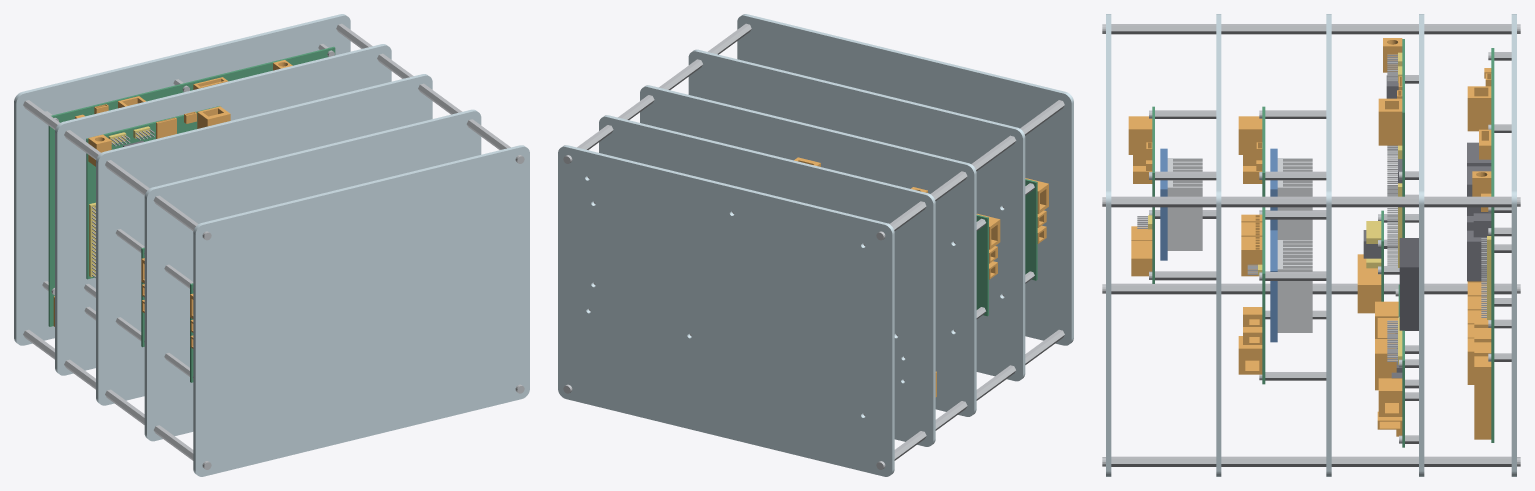
The model's file is stack.glb.
3 views of the same model, side by side, from view 1: azimuth 30°, elevation 25°; view 2: azimuth 150°, elevation 25°; view 3: azimuth 270°, elevation 25° (orthographic). The views are drawn at different scales.
Visible parts, largest first — view 1: L4|plate|170_205_222, L3|plate|170_205_222, L2|plate|170_205_222, L1|plate|170_205_222, L0|plate|170_205_222, L0|LAN9692|30_105_60, L1|TC397|30_105_60, L1|TC397|235_125_35, L3|column|150_155_162, L2|column|150_155_162, L0|column|150_155_162, L1|column|150_155_162 (+2 smaller); view 2: L0|plate|170_205_222, L3|plate|170_205_222, L4|plate|170_205_222, L1|plate|170_205_222, L2|plate|170_205_222, L0|column|150_155_162, L2|column|150_155_162, L3|column|150_155_162, L3|KA7-UNO|30_105_60, L2|KA7-UNO|30_105_60, L1|column|150_155_162, L3|KA7-UNO|235_125_35 (+1 smaller); view 3: L0|LAN9692|235_125_35, L2|KA7-UNO|190_195_202, L3|column|150_155_162, L2|column|150_155_162, L2|KA7-UNO|235_125_35, L0|column|150_155_162, L1|column|150_155_162, L2|KA7-UNO|150_155_162, L0|plate|170_205_222, L1|plate|170_205_222, L2|plate|170_205_222, L3|plate|170_205_222 (+22 smaller).
Boxes of the visible parts, box(x1,y1,x2,y2) form: L4|plate|170_205_222: box(193, 145, 529, 476); L3|plate|170_205_222: box(144, 109, 481, 441); L2|plate|170_205_222: box(96, 74, 432, 405); L1|plate|170_205_222: box(55, 44, 391, 375); L0|plate|170_205_222: box(14, 14, 350, 345); L0|LAN9692|30_105_60: box(48, 46, 335, 326); L1|TC397|30_105_60: box(86, 106, 220, 279); L1|TC397|235_125_35: box(88, 106, 230, 166); L3|column|150_155_162: box(153, 119, 510, 460); L2|column|150_155_162: box(105, 83, 462, 424); L0|column|150_155_162: box(23, 23, 372, 359); L1|column|150_155_162: box(64, 53, 413, 389); L0|plate|170_205_222: box(558, 145, 894, 476); L3|plate|170_205_222: box(688, 49, 1025, 381); L4|plate|170_205_222: box(737, 14, 1073, 345); L1|plate|170_205_222: box(599, 115, 935, 446); L2|plate|170_205_222: box(640, 85, 976, 416); L0|column|150_155_162: box(563, 125, 926, 469); L2|column|150_155_162: box(659, 59, 1016, 400); L3|column|150_155_162: box(707, 23, 1064, 364); L3|KA7-UNO|30_105_60: box(1025, 179, 1037, 280); L2|KA7-UNO|30_105_60: box(976, 214, 988, 316); L1|column|150_155_162: box(618, 95, 967, 430); L3|KA7-UNO|235_125_35: box(1025, 178, 1048, 243); L0|LAN9692|235_125_35: box(1467, 68, 1491, 439); L2|KA7-UNO|190_195_202: box(1277, 158, 1312, 332); L3|column|150_155_162: box(1111, 24, 1216, 466); L2|column|150_155_162: box(1221, 24, 1326, 466); L2|KA7-UNO|235_125_35: box(1238, 116, 1262, 374); L0|column|150_155_162: box(1424, 24, 1520, 466); L1|column|150_155_162: box(1331, 24, 1418, 466); L2|KA7-UNO|150_155_162: box(1247, 110, 1326, 380); L0|plate|170_205_222: box(1511, 14, 1516, 476); L1|plate|170_205_222: box(1419, 14, 1424, 476); L2|plate|170_205_222: box(1326, 14, 1331, 476); L3|plate|170_205_222: box(1216, 14, 1221, 476).
Bounding box in the file's own units: 250 × 180 × 239.
